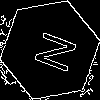N: (25, 25, 78, 76)
